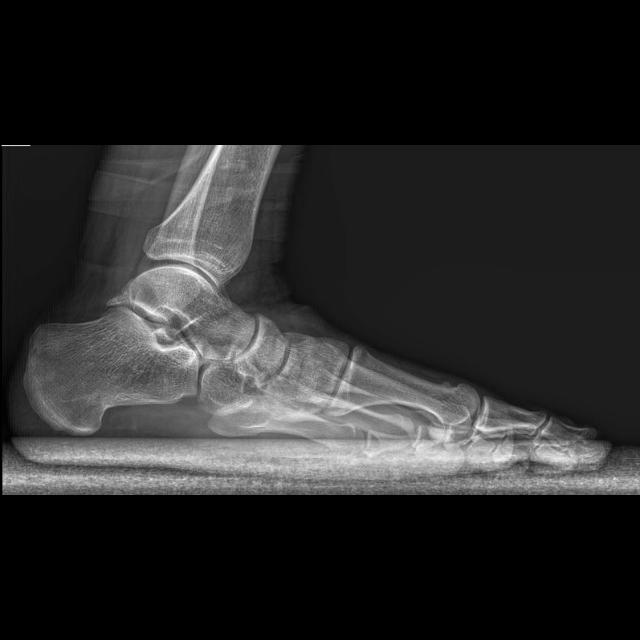a: (24, 308, 198, 436)
b: (236, 315, 288, 388)
c: (325, 348, 479, 443)
